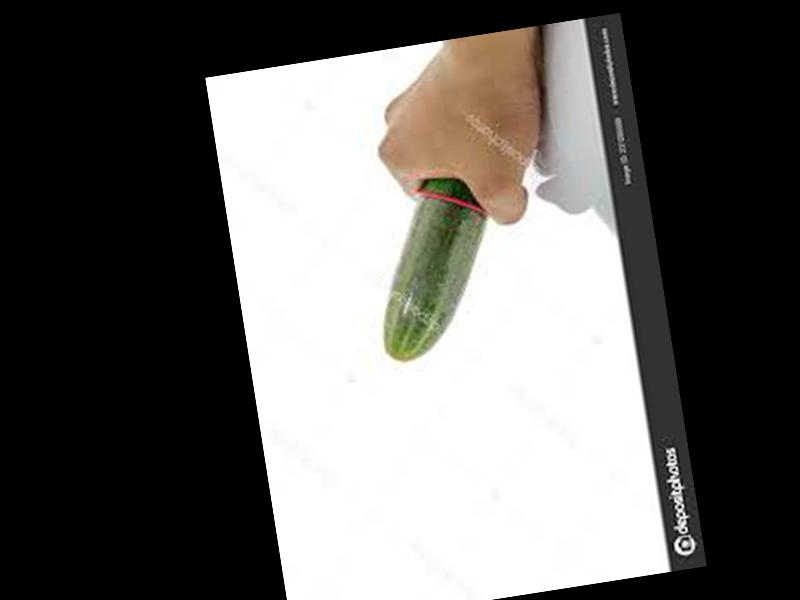Cucumber: (360, 171, 506, 364)
